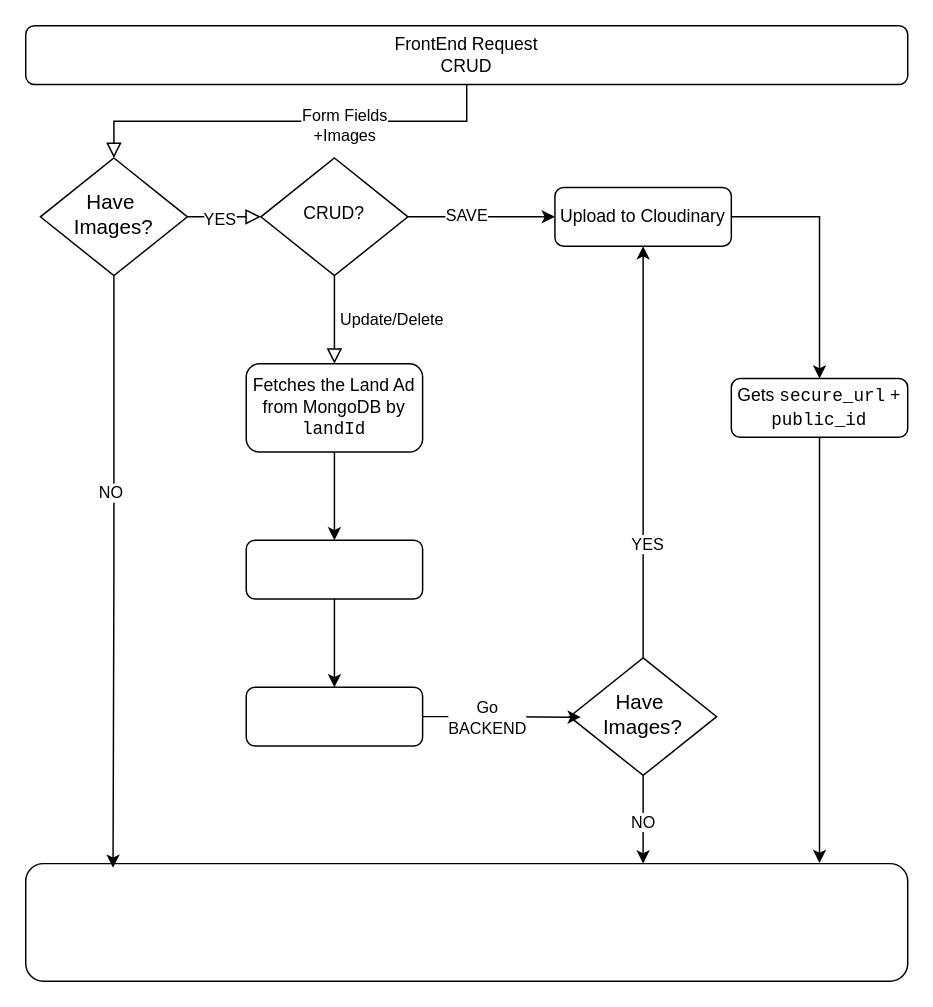
The diagram is 933 pixels wide and 1007 high, and some of its shapes have lost their labels. The shapes that lost their labels are listed below. From the top down, each one's centre as x and y in pixels, then its label:
(334,569): Extracts all public_ids
(334,716): Deletes each image from Cloudinary
(466,921): Save/Update/Delete Land Ad in MongoDB ,including Cloudinary IDs
